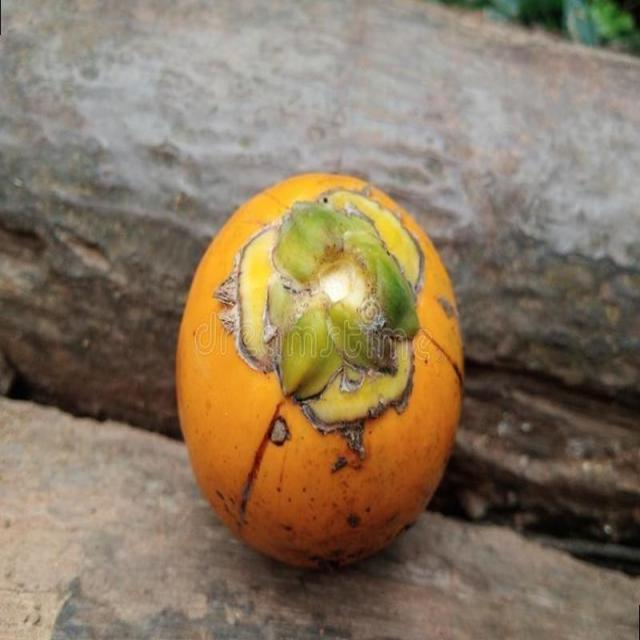good: (176, 177, 462, 571)
